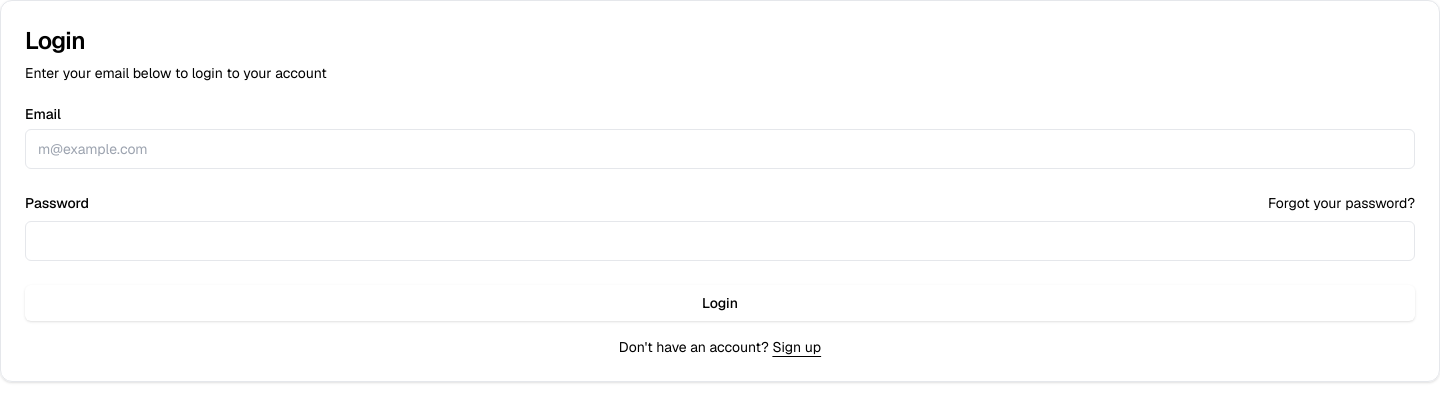
Scenario: LoginForm › блокирует кнопку при isLoading
Step 1. Type "a@a.com" into the field labelled "Email" → (720, 149), box [25,129,1415,169]
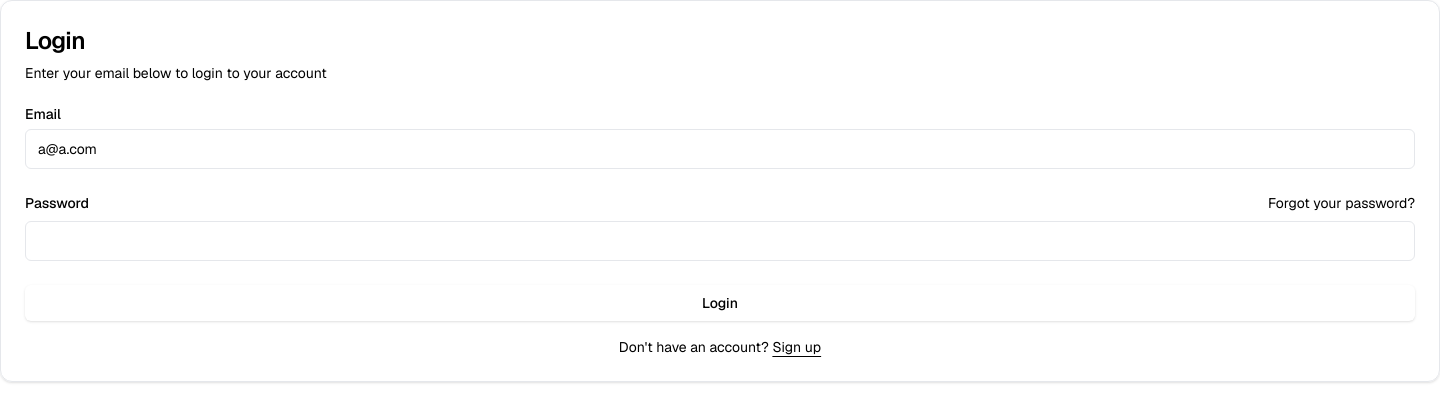
Step 2. Type "123" into the password field labelled "Password" → (720, 241), box [25,221,1415,261]
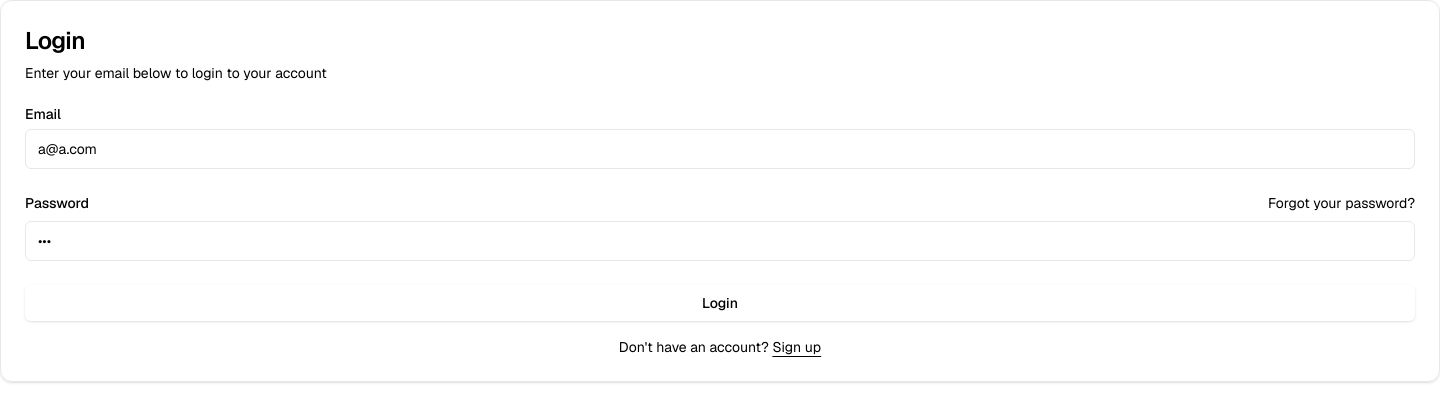
Step 3. Submit the form with test id "login-form"
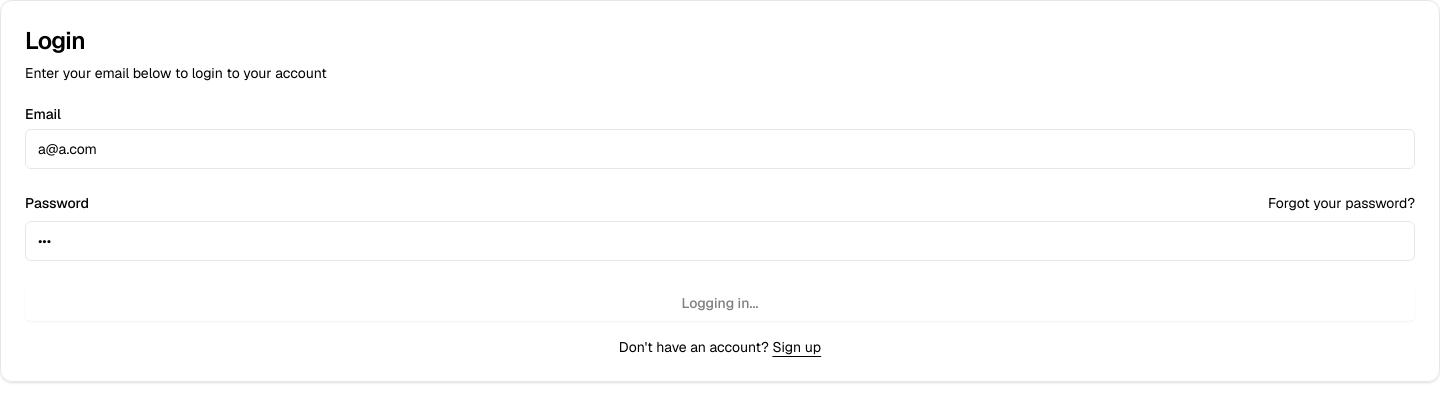
Now the button "Logging in..." is disabled, box [25,285,1415,321]
